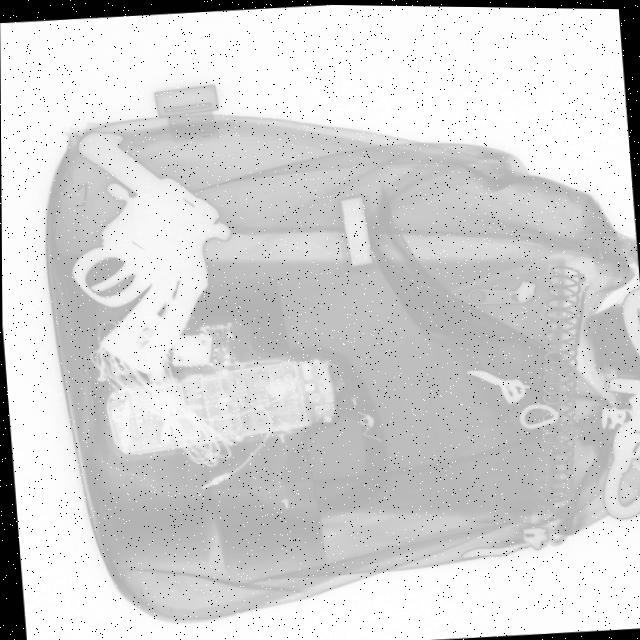pistol: (57, 118, 247, 379)
